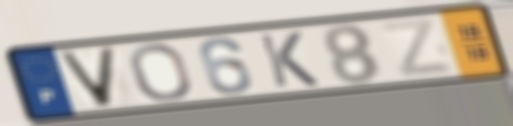6: (196, 35, 255, 97)
8: (320, 21, 384, 86)
K: (254, 29, 323, 89)
O: (127, 42, 196, 103)
V: (53, 45, 121, 109)
Z: (376, 16, 459, 80)
